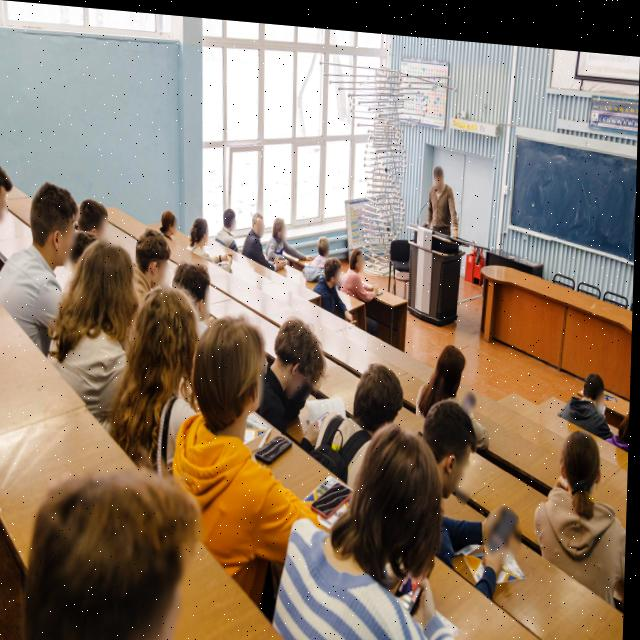Person: (266, 411, 494, 640), (182, 298, 329, 573), (20, 450, 197, 640), (532, 412, 631, 615), (58, 222, 140, 423), (0, 175, 87, 362), (124, 279, 204, 473), (308, 350, 419, 478), (428, 399, 507, 573), (267, 310, 331, 425), (424, 321, 488, 421), (559, 351, 616, 433), (422, 152, 470, 248), (317, 246, 356, 339), (184, 208, 234, 278), (174, 252, 216, 323), (0, 143, 17, 317), (346, 239, 380, 315), (77, 185, 117, 249), (135, 224, 170, 295), (245, 207, 275, 276), (272, 210, 308, 266), (306, 228, 335, 281), (217, 197, 242, 249), (158, 203, 184, 241)
